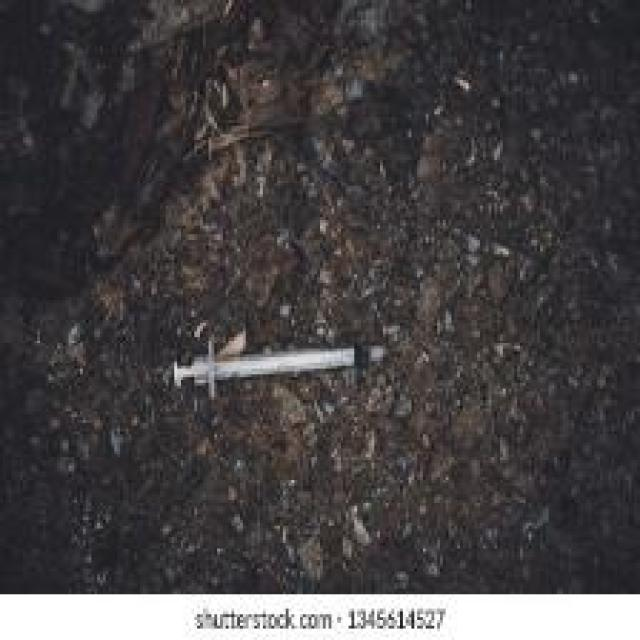syringe: (161, 293, 405, 427)
